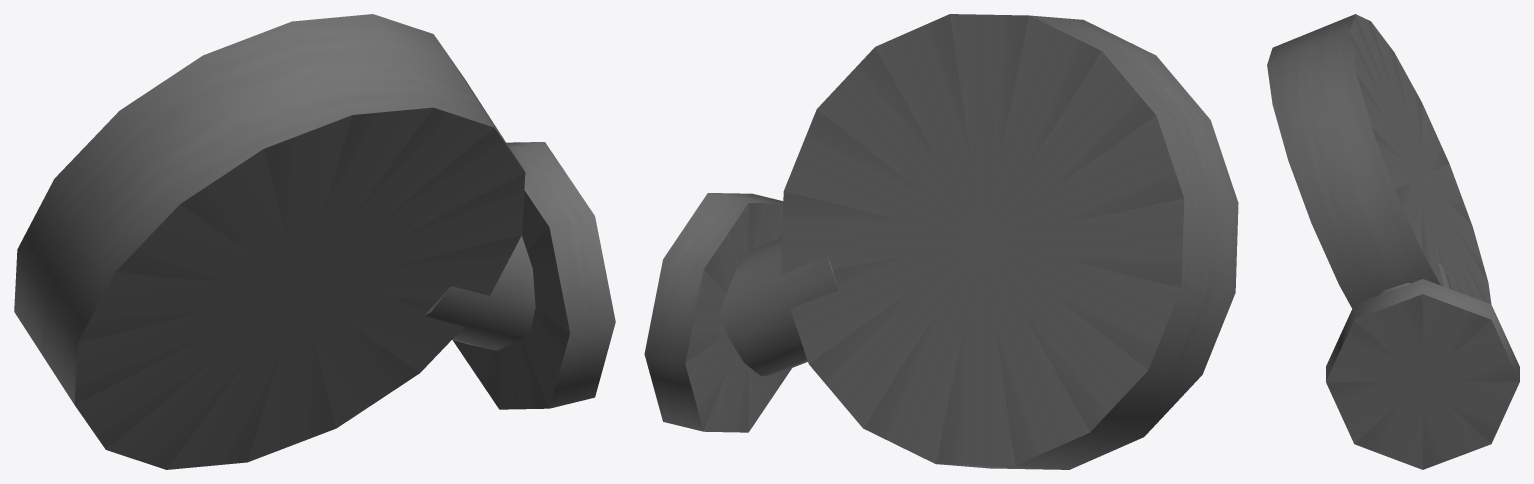
Rendered from mastarmcurve_4x1_c0_east.obj.
3 renders of one model, left to right at view 1: azimuth 30°, elevation 25°; view 2: azimuth 150°, elevation 25°; view 3: azimuth 270°, elevation 25°, orthographic. The views are drawn at different scales.
Visible parts, largest first — view 1: mastarm_4x1_c0_east; view 2: mastarm_4x1_c0_east; view 3: mastarm_4x1_c0_east.
Boxes of the visible parts, left/top/right/bottom form: mastarm_4x1_c0_east: left=14, top=14, right=615, bottom=469; mastarm_4x1_c0_east: left=644, top=14, right=1238, bottom=469; mastarm_4x1_c0_east: left=1267, top=14, right=1519, bottom=469.
Size of the model in its own units: 0.8617 by 0.7646 by 0.5211.
